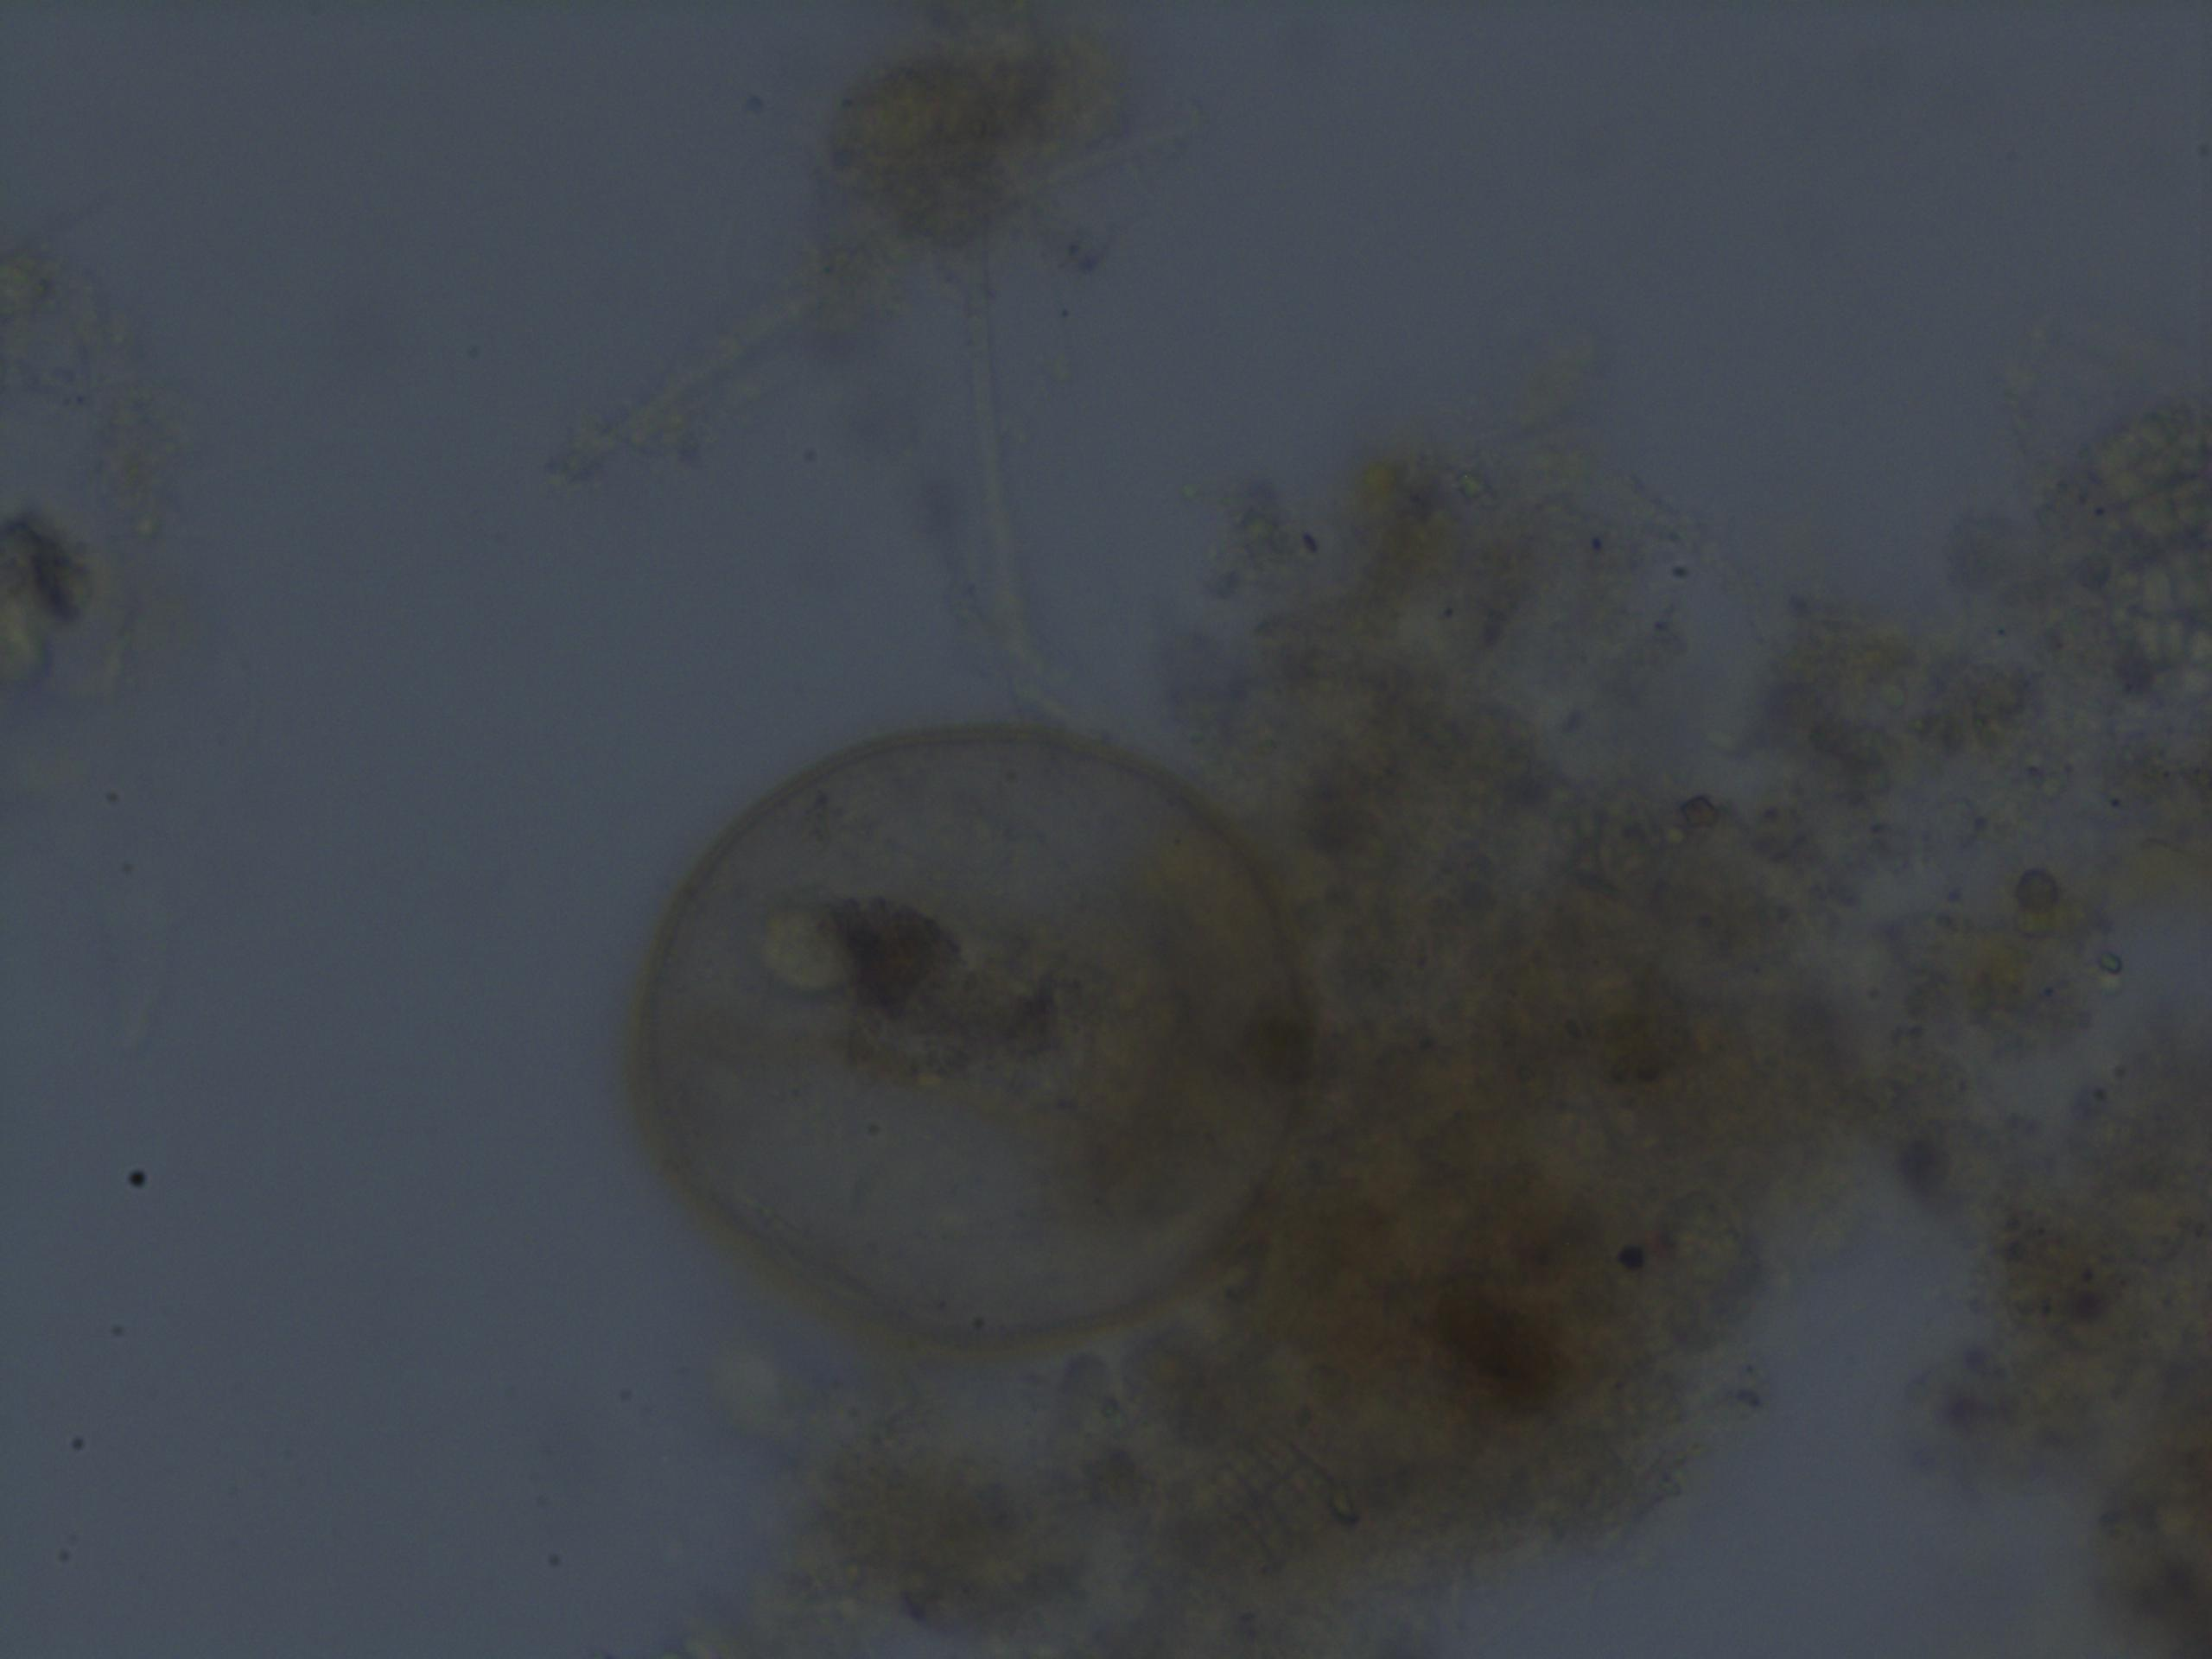filament: (545, 101, 1230, 502), (887, 192, 1082, 709)
protozoa: (625, 716, 1327, 1368)
